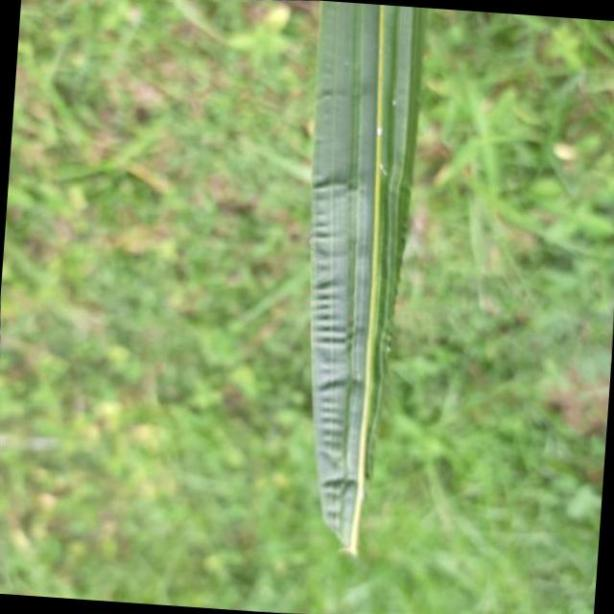Boron: (301, 0, 427, 555)
